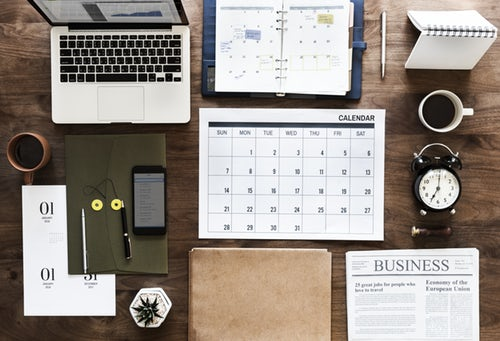phone: (131, 164, 168, 235)
